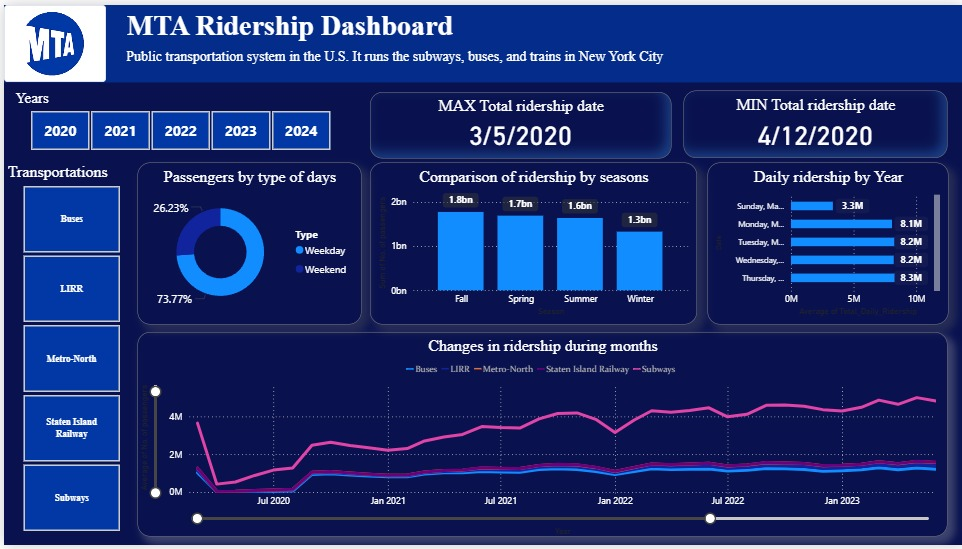

Layout of this report page (visuals, bound fields, positions):
{"tool":"powerbi","page":{"name":"Page 1","canvas":[1280,720],"ordinal":0},"visuals":[{"type":"textbox","box":[0,0,1280,103.3],"z":0},{"type":"slicer","title":"Transportations","fields":{"Values":["MTA_Daily_Ridership.passengers %"]},"box":[0,210,178.6,498.6],"z":1000},{"type":"clusteredColumnChart","title":" Comparison of ridership by seasons","fields":{"Y":["Sum(MTA_Daily_Ridership.Value)"],"Category":["MTA_Daily_Ridership.Season"]},"box":[488.6,210,435.7,215.7],"z":2000},{"type":"slicer","title":"Years","fields":{"Values":["access.Year"]},"box":[10,112.9,451.4,88.6],"z":3000},{"type":"stackedAreaChart","title":"Changes in ridership during months","fields":{"Y":["Avg(MTA_Daily_Ridership.Value)"],"Series":["MTA_Daily_Ridership.Transportations"],"Category":["access %.Date.Variation.Date Hierarchy.Year","access %.Date.Variation.Date Hierarchy.Month"]},"box":[178.6,435.7,1080,272.9],"z":4000},{"type":"clusteredBarChart","title":"Daily ridership by Year","fields":{"Category":["MTA_Daily_Ridership.Date.Variation.Date Hierarchy.Year"],"Y":["Avg(MTA_Daily_Ridership.Total_Daily_Ridership)"]},"box":[937.1,210,321.4,215.7],"z":5000},{"type":"donutChart","title":" Passengers by type of days","fields":{"Category":["MTA_Daily_Ridership.DayType"],"Y":["Sum(MTA_Daily_Ridership.No. of passengers)"]},"box":[178.6,210,298.6,215.7],"z":6000},{"type":"card","title":"MAX Total ridership date","fields":{"Values":["Min(MTA_Daily_Ridership.Date)"]},"box":[488.3,116.7,401.7,88.3],"z":7000},{"type":"card","title":"MIN Total ridership date","fields":{"Values":["Min(MTA_Daily_Ridership.Date)"]},"box":[906.7,113.3,351.7,90],"z":8000},{"type":"image","box":[0,0,135.7,102.9],"z":10000},{"type":"textbox","box":[158.6,52.9,855.7,62.9],"z":11000}]}

Visuals, with their boxes in screenshot pixels (x1, y1, x2, y2), scaled from the page's 1280x720 canvas onto the 962x549 screenshot:
textbox: bbox(0, 0, 961, 79)
"Transportations" slicer: bbox(0, 160, 134, 540)
" Comparison of ridership by seasons" clusteredColumnChart: bbox(367, 160, 695, 325)
"Years" slicer: bbox(8, 86, 347, 154)
"Changes in ridership during months" stackedAreaChart: bbox(134, 332, 946, 540)
"Daily ridership by Year" clusteredBarChart: bbox(704, 160, 946, 325)
" Passengers by type of days" donutChart: bbox(134, 160, 359, 325)
"MAX Total ridership date" card: bbox(367, 89, 669, 156)
"MIN Total ridership date" card: bbox(681, 86, 946, 155)
image: bbox(0, 0, 102, 78)
textbox: bbox(119, 40, 762, 88)
